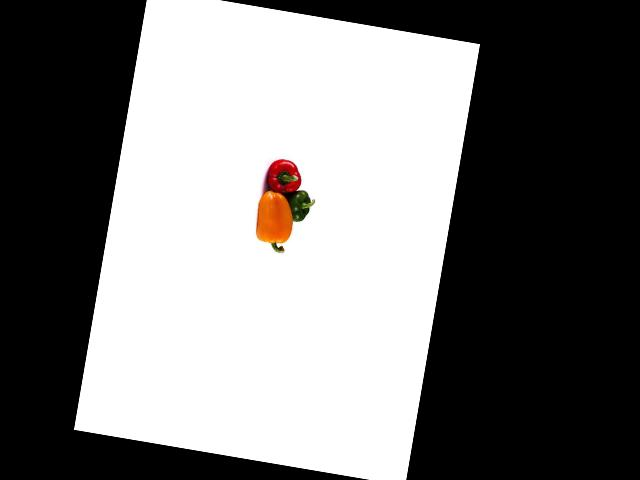bell_pepper: (278, 184, 317, 227)
